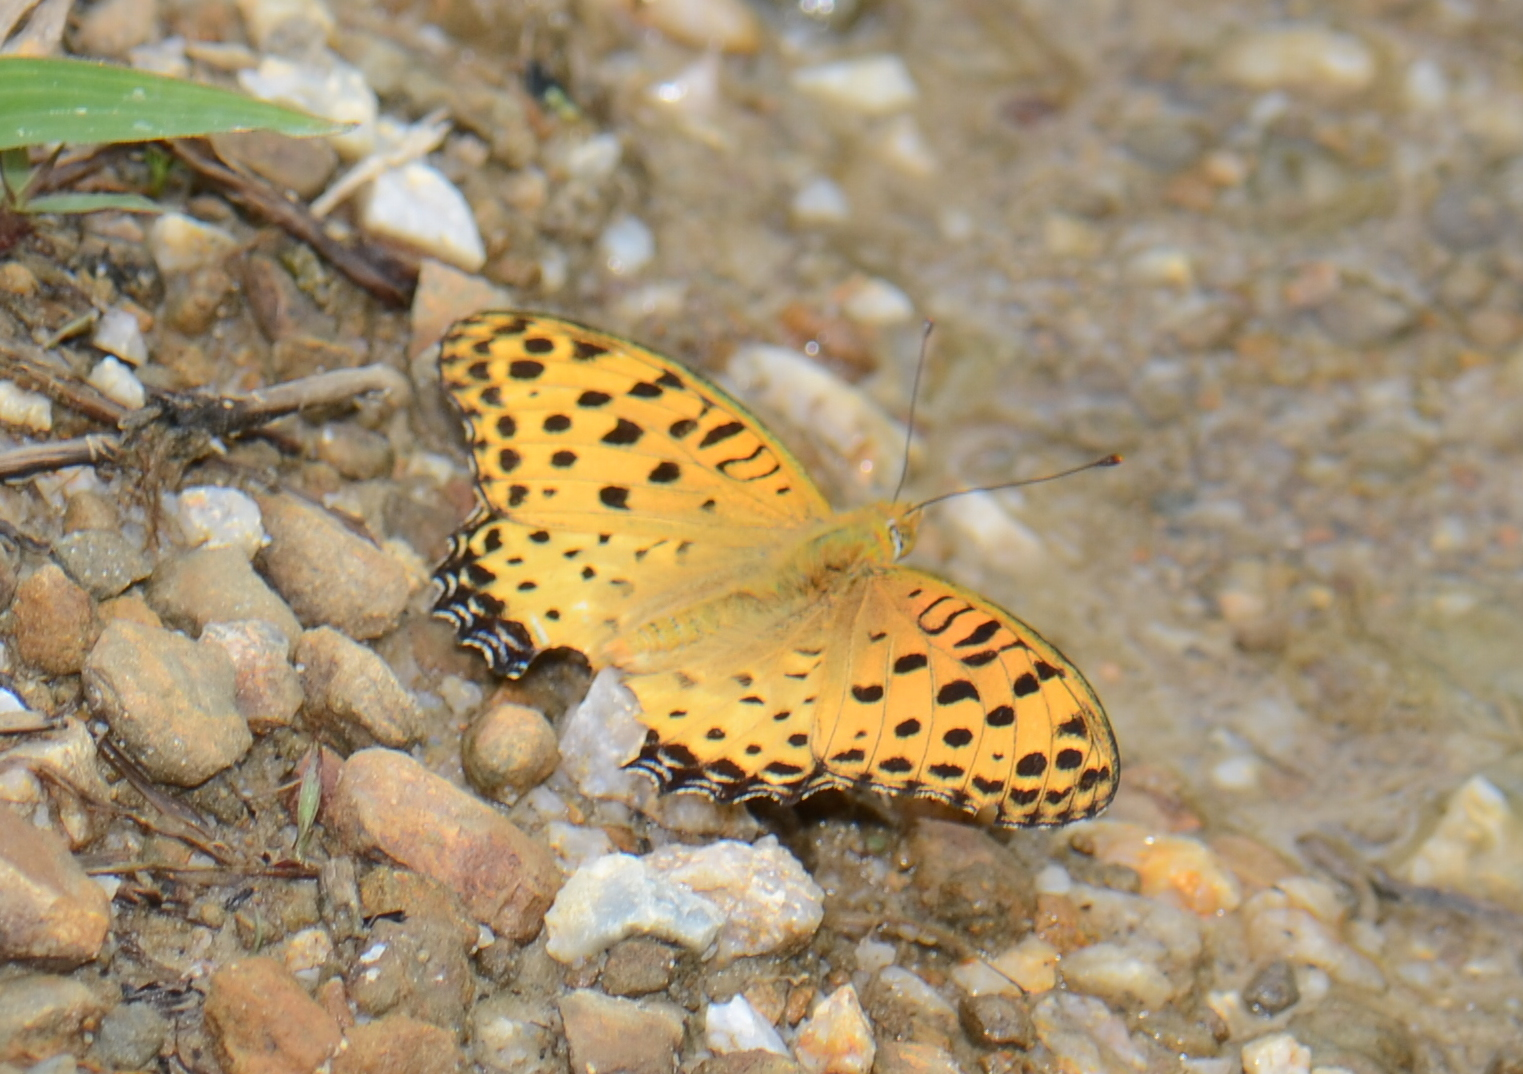Argyreus hyperbius: (420, 286, 1129, 842)
butterfly: (422, 288, 1131, 843)
